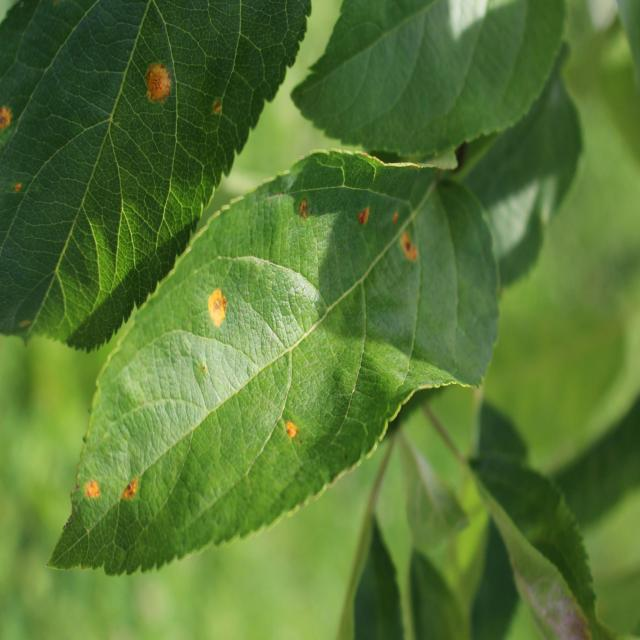Rust: (200, 270, 232, 347), (143, 50, 176, 121), (390, 204, 423, 264), (270, 407, 306, 460), (73, 460, 104, 521), (119, 461, 145, 519), (349, 194, 377, 241), (291, 189, 317, 235), (0, 98, 25, 140), (207, 95, 230, 133), (10, 175, 30, 208)
